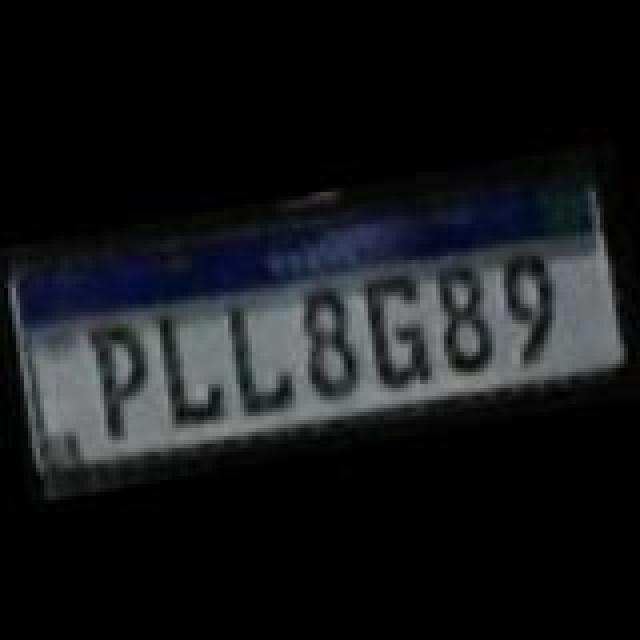8: (424, 254, 504, 386), (290, 274, 366, 406)
9: (488, 238, 568, 370)
G: (354, 264, 430, 392)
L: (144, 300, 224, 436), (216, 288, 296, 416)
P: (84, 318, 156, 450)
